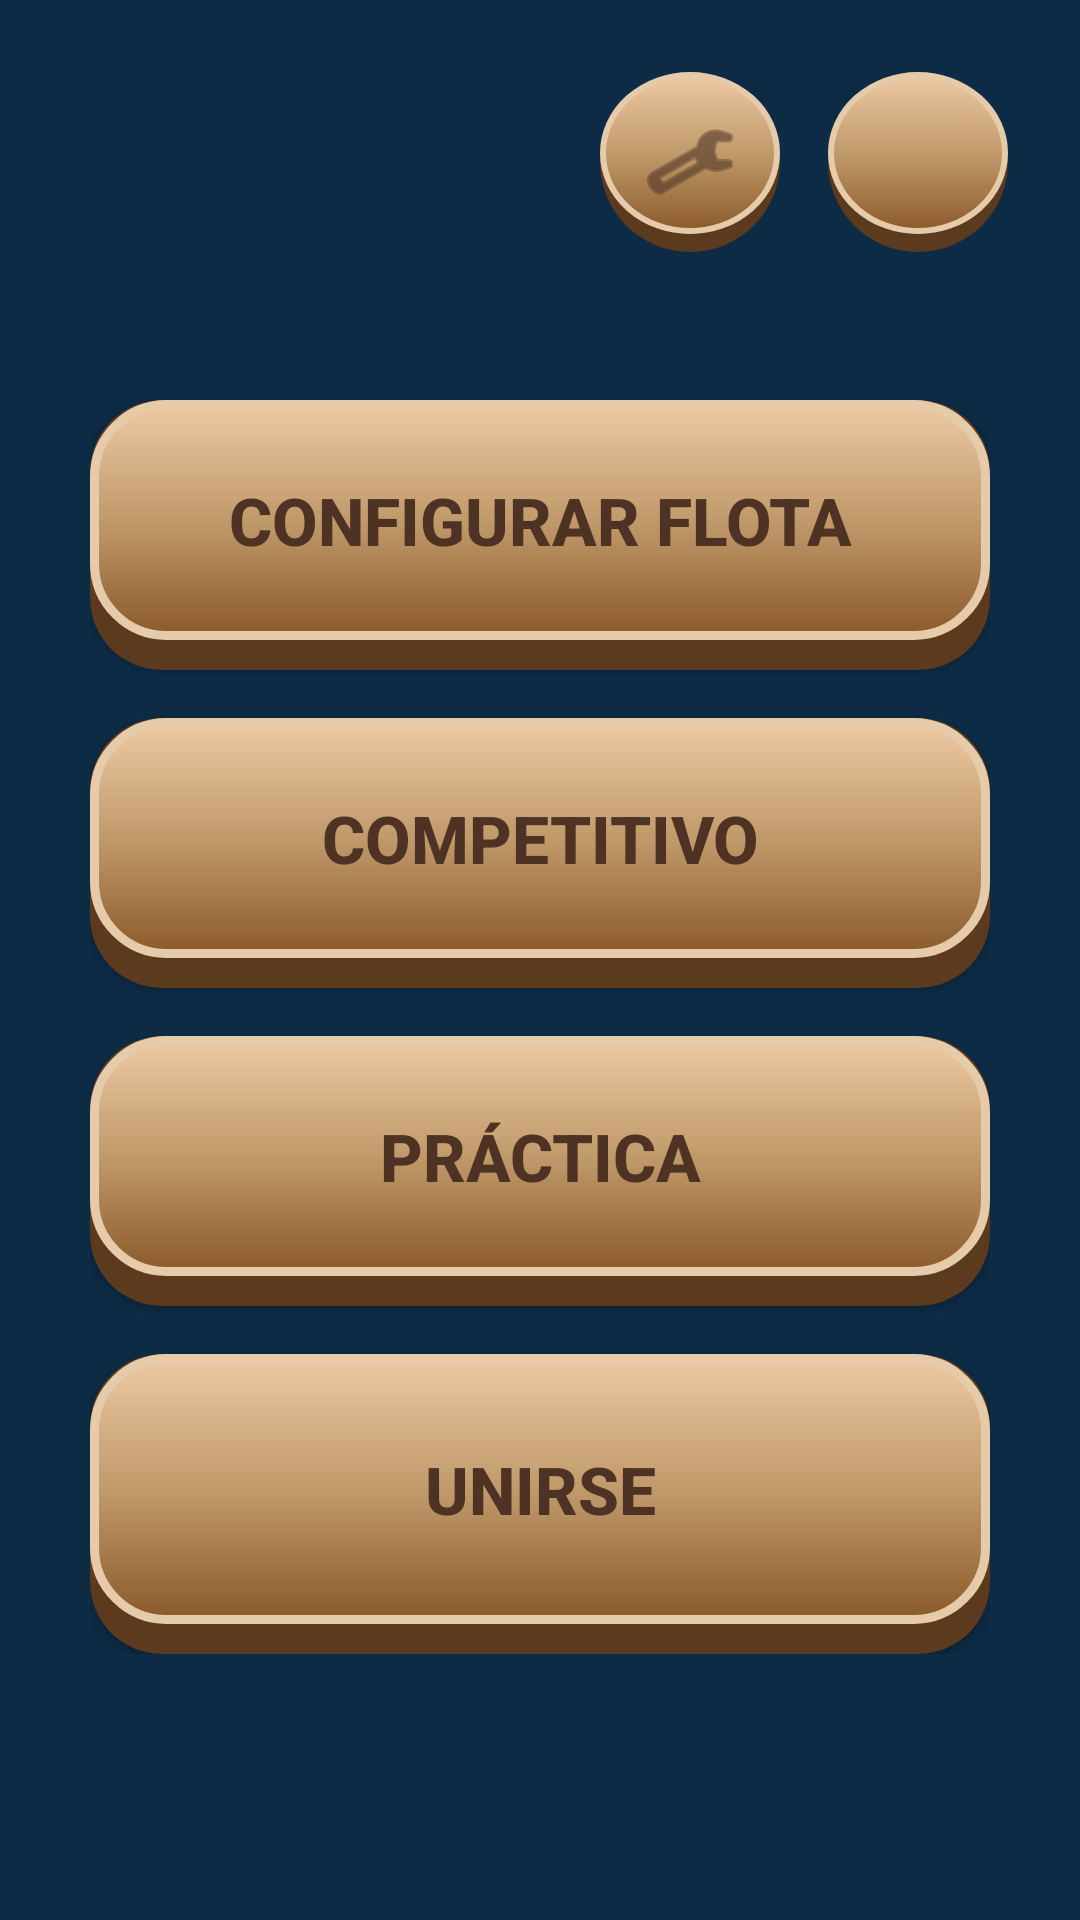

Icon bounding boxes for this 1080px x 1920px phone screenshot, format region(x1, y1, x2, y2):
Ajustes: region(600, 72, 780, 252)
